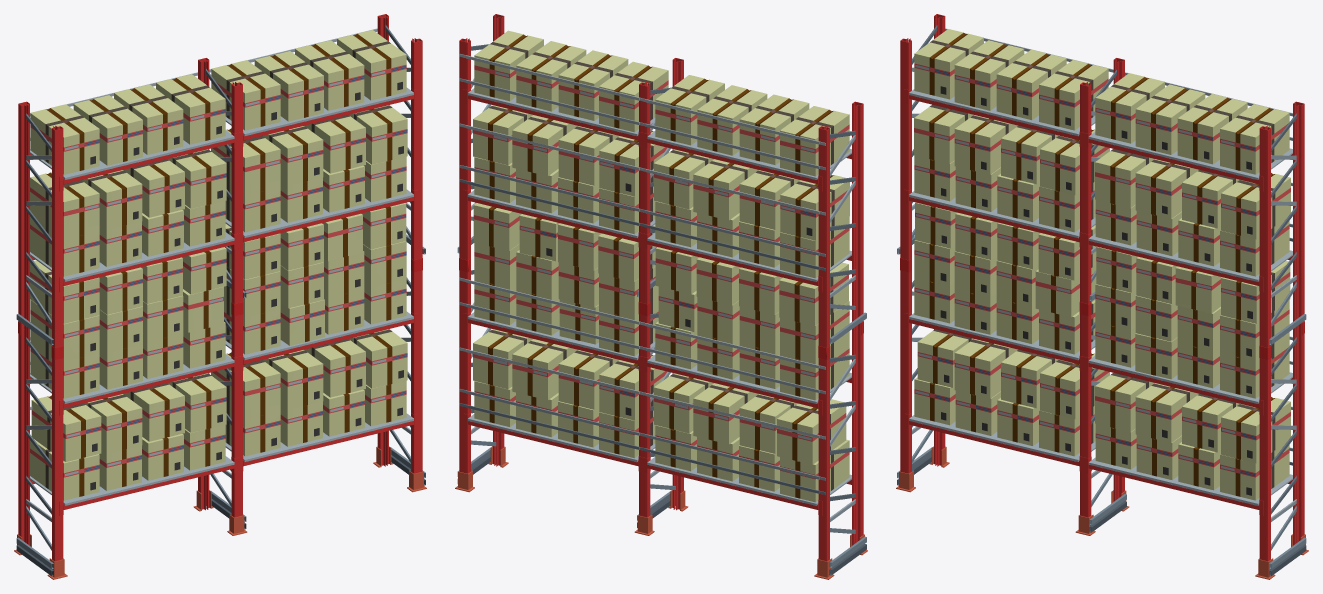
File: SM_ShelfBoxesx3_Red_B.fbx
3 renders of one model, left to right at view 1: azimuth 30°, elevation 25°; view 2: azimuth 150°, elevation 25°; view 3: azimuth 330°, elevation 25°, orthographic.
Visible parts, largest first — view 1: SM_ShelfBoxesx3_Red_B; view 2: SM_ShelfBoxesx3_Red_B; view 3: SM_ShelfBoxesx3_Red_B.
Boxes of the visible parts, x1,y1,x2,y2 form: SM_ShelfBoxesx3_Red_B: (14, 14, 426, 579); SM_ShelfBoxesx3_Red_B: (455, 14, 867, 579); SM_ShelfBoxesx3_Red_B: (896, 14, 1308, 579).
Size of the model in its own units: 646 by 739 by 118.
